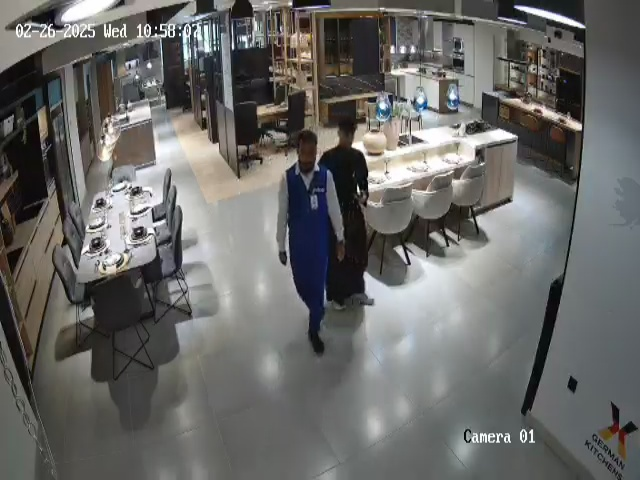employee: (276, 129, 346, 355)
male: (319, 118, 375, 311)
